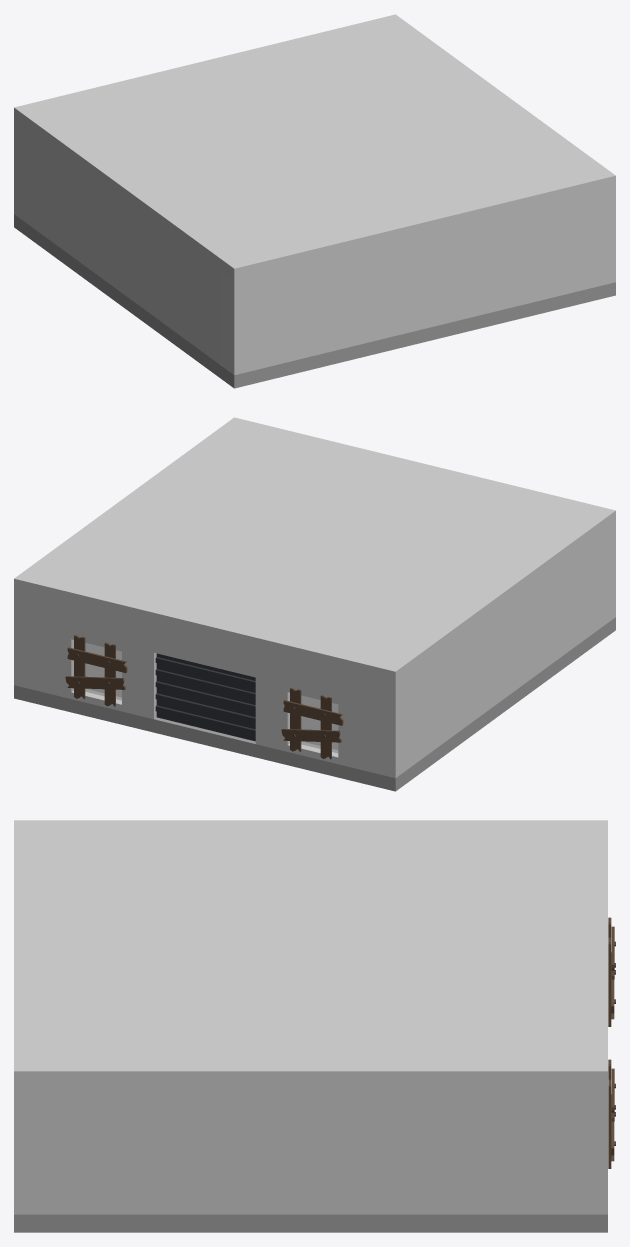
The model's file is Tienda cerrada 4.fbx.
The picture shows the model from 3 angles, top to bottom: view 1: azimuth 30°, elevation 25°; view 2: azimuth 150°, elevation 25°; view 3: azimuth 270°, elevation 25°; orthographic projection. The views are drawn at different scales.
Parts seen in each view (by area): view 1: Pared_1x10x82, Pared_1x10x26, Pared3_1x10x26, Pared_1x10x83, Esquina_1x10x9, Esquina_1x10x1, Esquina_1x10x32; view 2: Pared_1x10x82, Pared_1x10x61, Pared3_1x10x26, Pared_1x10x83, Puerta_metalica1, Esquina_1x10x32, Esquina_1x10x33, Esquina_1x10x9, Pared_1x10x128, Pared_1x10x120, Pared_1x10x126, Pared_1x10x118 (+2 smaller); view 3: Pared_1x10x82, Pared2_1x10x26, Pared_1x10x83, Esquina_1x10x1, Esquina_1x10x33.
Part boxes in pixels (<box>): Pared_1x10x82: <box>14,14,615,281</box>; Pared_1x10x26: <box>260,195,590,368</box>; Pared3_1x10x26: <box>28,132,219,364</box>; Pared_1x10x83: <box>14,214,615,388</box>; Esquina_1x10x9: <box>219,271,259,375</box>; Esquina_1x10x1: <box>590,189,615,287</box>; Esquina_1x10x32: <box>14,121,28,224</box>; Pared_1x10x82: <box>14,417,615,684</box>; Pared_1x10x61: <box>39,598,370,771</box>; Pared3_1x10x26: <box>410,535,601,767</box>; Pared_1x10x83: <box>14,617,615,791</box>; Puerta_metalica1: <box>155,653,255,741</box>; Esquina_1x10x32: <box>370,674,410,778</box>; Esquina_1x10x33: <box>14,592,39,690</box>; Esquina_1x10x9: <box>601,524,615,627</box>; Pared_1x10x128: <box>67,647,127,672</box>; Pared_1x10x120: <box>283,700,343,725</box>; Pared_1x10x126: <box>65,676,125,689</box>; Pared_1x10x118: <box>281,729,341,742</box>; Pared_1x10x82: <box>14,820,607,1089</box>; Pared2_1x10x26: <box>53,1089,568,1214</box>; Pared_1x10x83: <box>14,1214,607,1232</box>; Esquina_1x10x1: <box>14,1089,53,1214</box>; Esquina_1x10x33: <box>568,1089,607,1214</box>.
Size of the model in its own units: 30 by 9 by 30.42.
